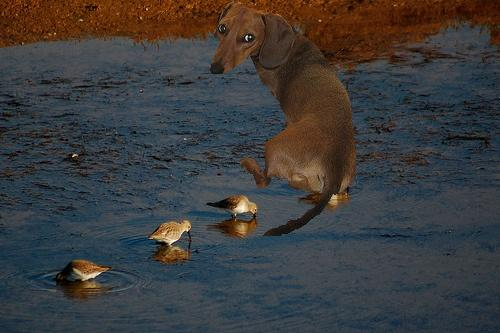tampered: (211, 2, 356, 236)
